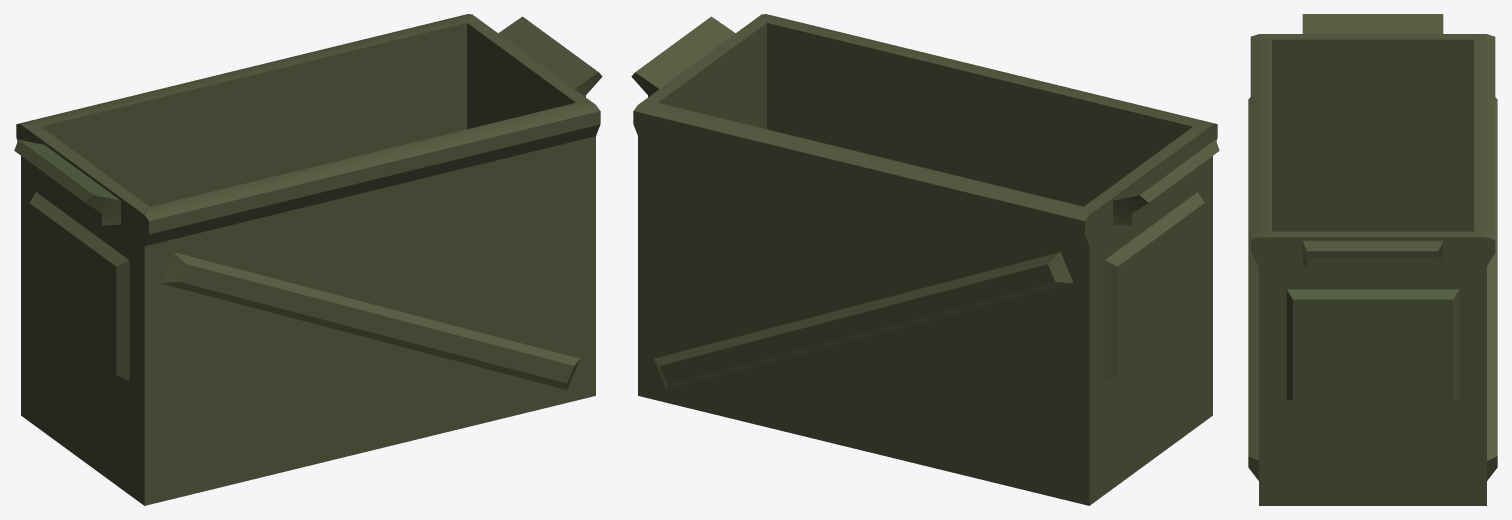
Rendered from SM_Prop_AmmoBox_01.glb.
The picture shows the model from 3 angles, left to right: view 1: azimuth 30°, elevation 25°; view 2: azimuth 150°, elevation 25°; view 3: azimuth 270°, elevation 25°; orthographic projection. The views are drawn at different scales.
Visible parts, largest first — view 1: SM_Prop_AmmoBox_01; view 2: SM_Prop_AmmoBox_01; view 3: SM_Prop_AmmoBox_01.
Boxes of the visible parts, left/top/right/bottom form: SM_Prop_AmmoBox_01: left=14, top=14, right=602, bottom=505; SM_Prop_AmmoBox_01: left=631, top=14, right=1219, bottom=505; SM_Prop_AmmoBox_01: left=1248, top=14, right=1497, bottom=505.
Bounding box in the file's own units: 0.5391 × 0.2985 × 0.244.
1 material, 1 textured.
